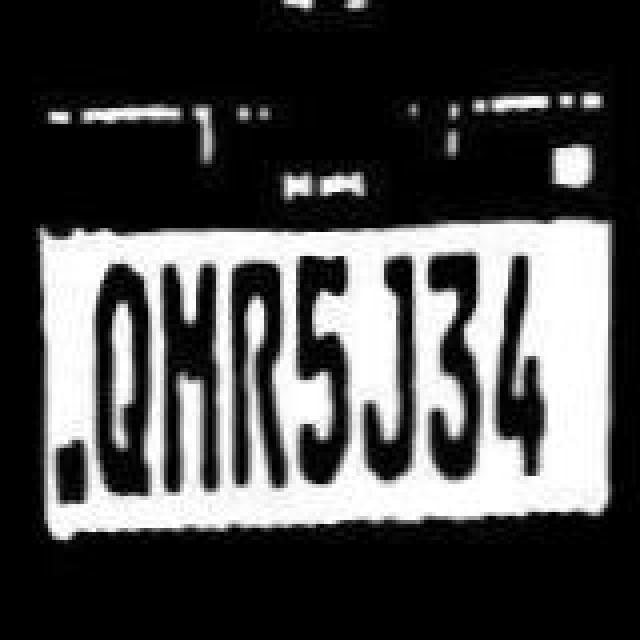3: (420, 244, 484, 488)
4: (488, 246, 552, 482)
5: (290, 242, 358, 494)
J: (354, 250, 422, 490)
M: (152, 252, 220, 504)
Q: (88, 256, 156, 496)
R: (224, 256, 296, 492)
